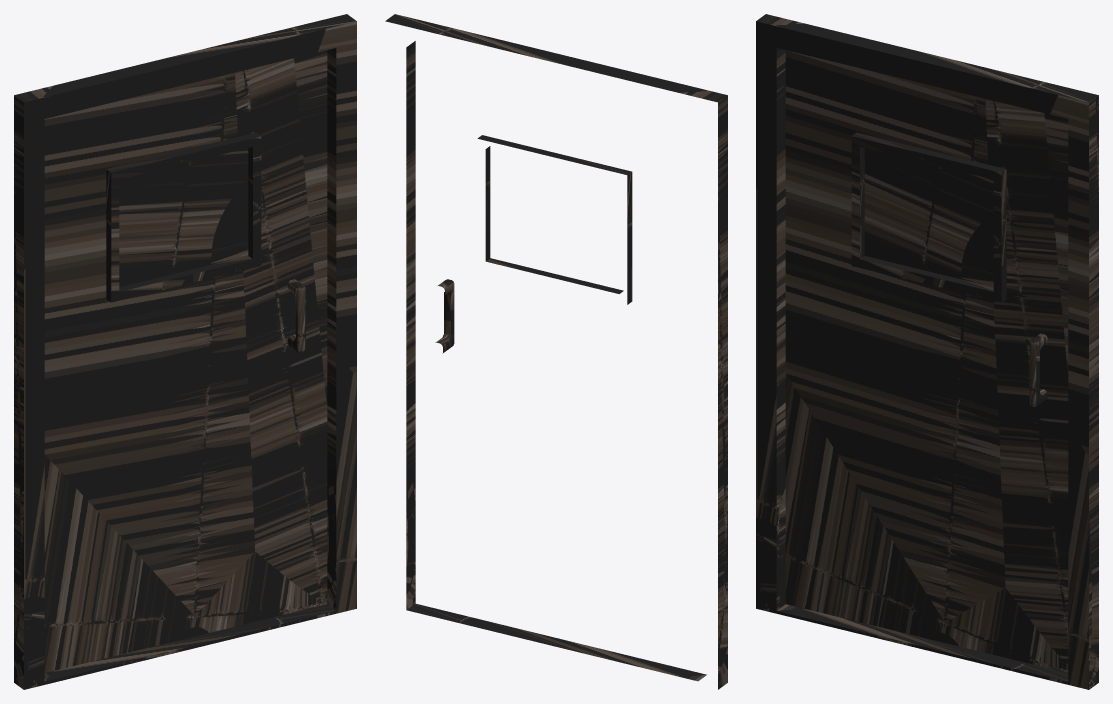
Rendered from Doorway.gltf.
3 views of the same model, side by side, from view 1: azimuth 30°, elevation 25°; view 2: azimuth 150°, elevation 25°; view 3: azimuth 330°, elevation 25° (orthographic).
Visible parts, largest first — view 1: SM_DoorWay; view 2: SM_DoorWay; view 3: SM_DoorWay.
Part boxes in pixels (bbox=[...]): SM_DoorWay: bbox=[14, 14, 356, 689]; SM_DoorWay: bbox=[385, 14, 727, 689]; SM_DoorWay: bbox=[756, 14, 1098, 689].
Size of the model in its own units: 1.21 by 2.04 by 0.0806.
